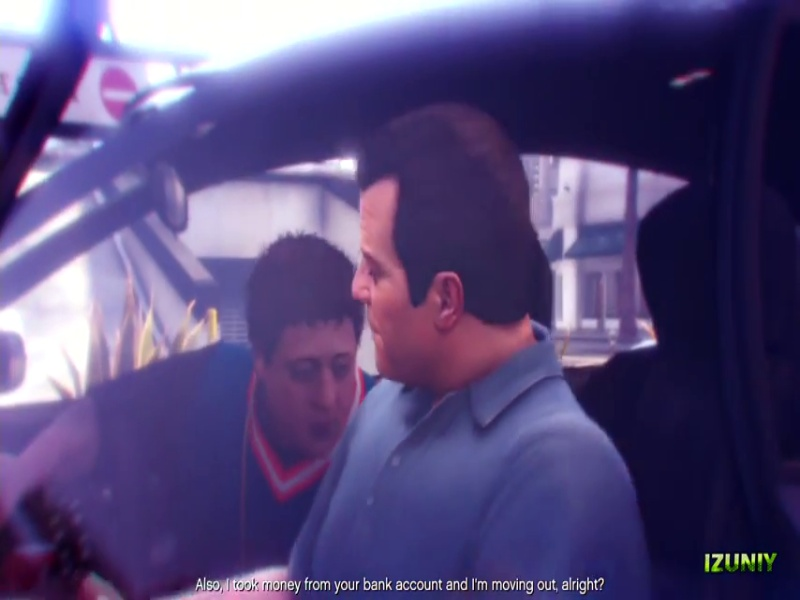human: (4, 27, 746, 595)
